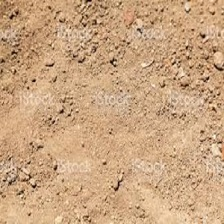sandy_soil: (9, 9, 210, 210)
